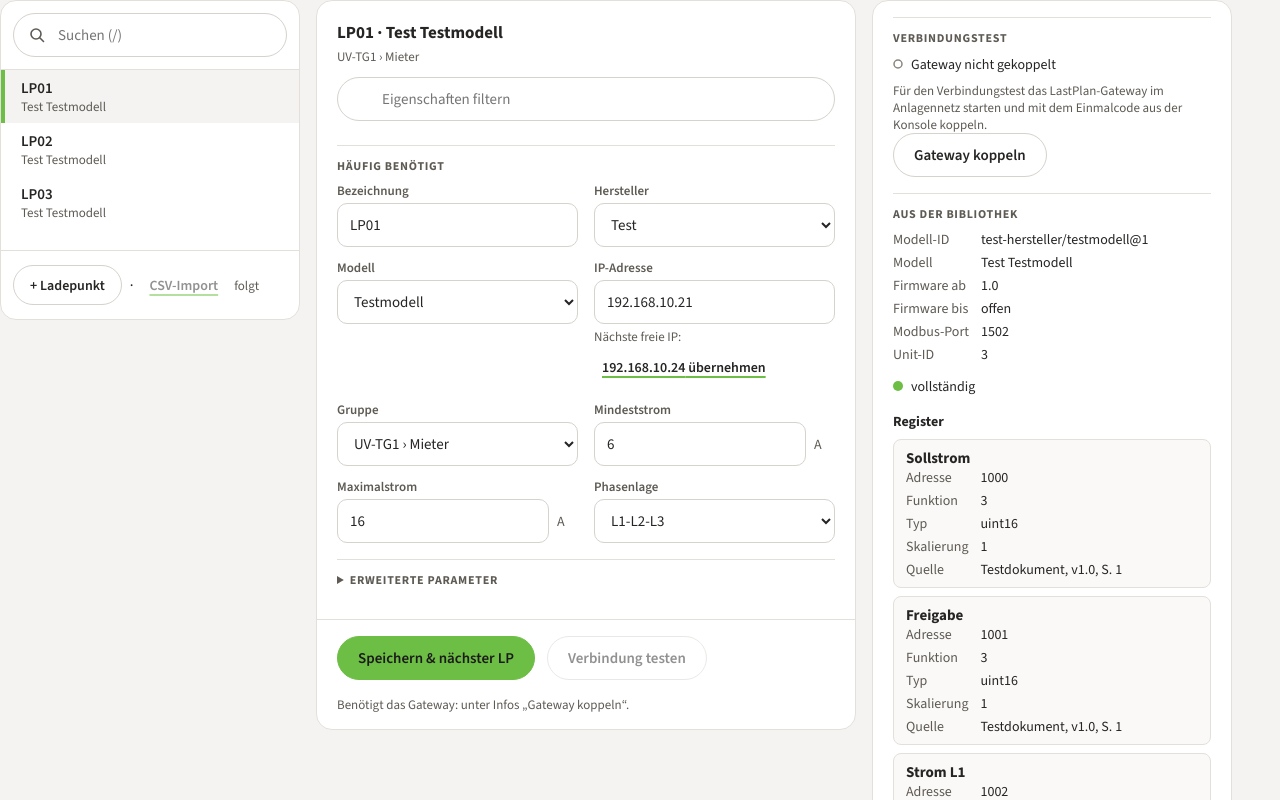
Ladepunkte-Ansicht › Eigenschaftenfilter blendet Felder aus
The image size is (1280, 800).
Type "strom" into the search field labelled "Eigenschaften filtern" at (586, 99), box [337, 77, 835, 121]
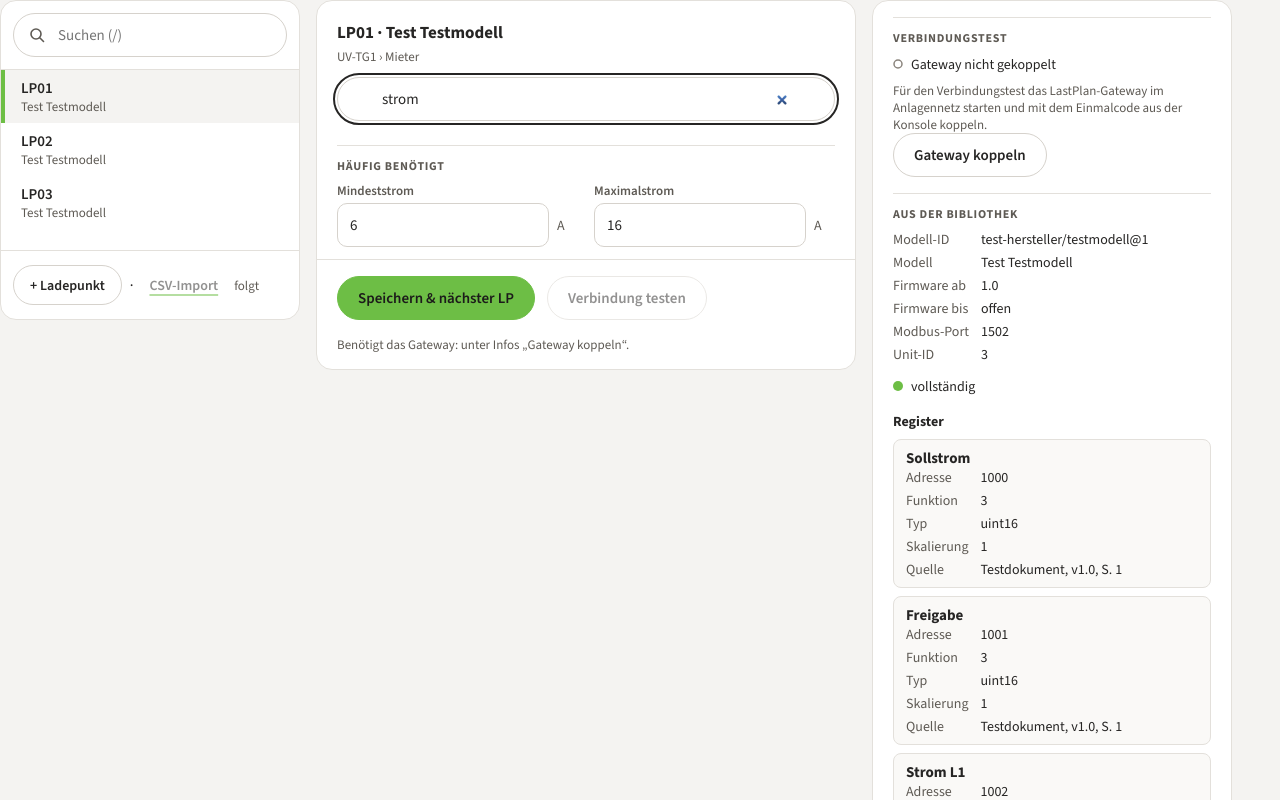
Expected: the number field labelled "Mindeststrom" is shown, [337, 203, 549, 247]
Expected: the label labelled "IP-Adresse" is gone
